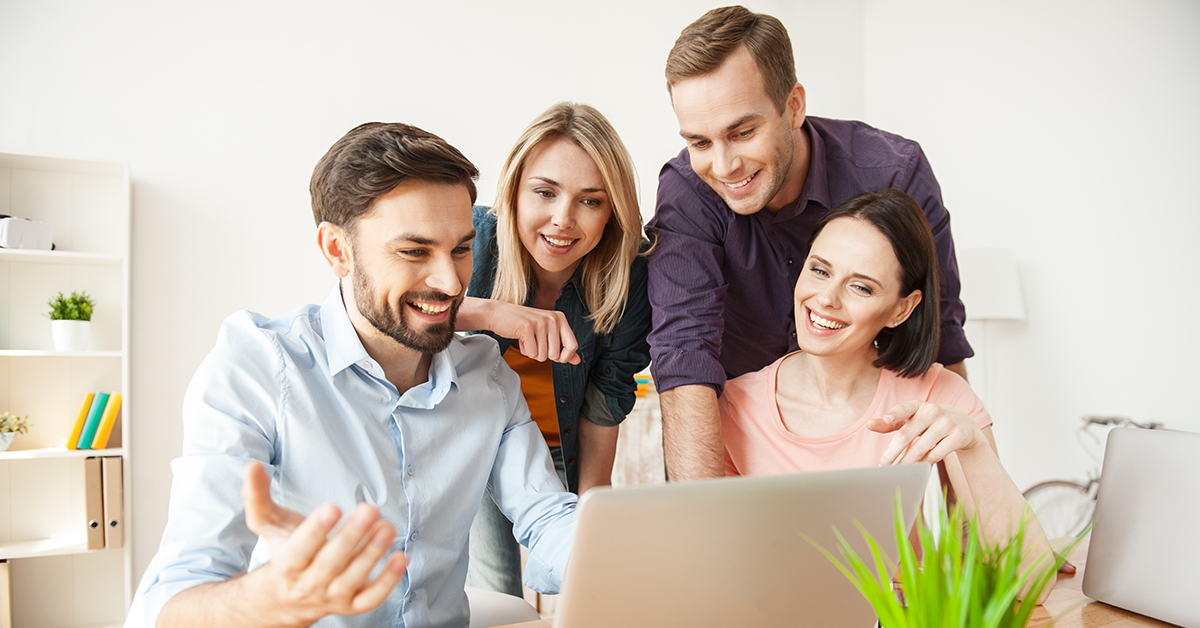bare: (349, 265, 478, 355), (685, 149, 802, 219), (516, 206, 609, 275), (790, 286, 879, 354)
